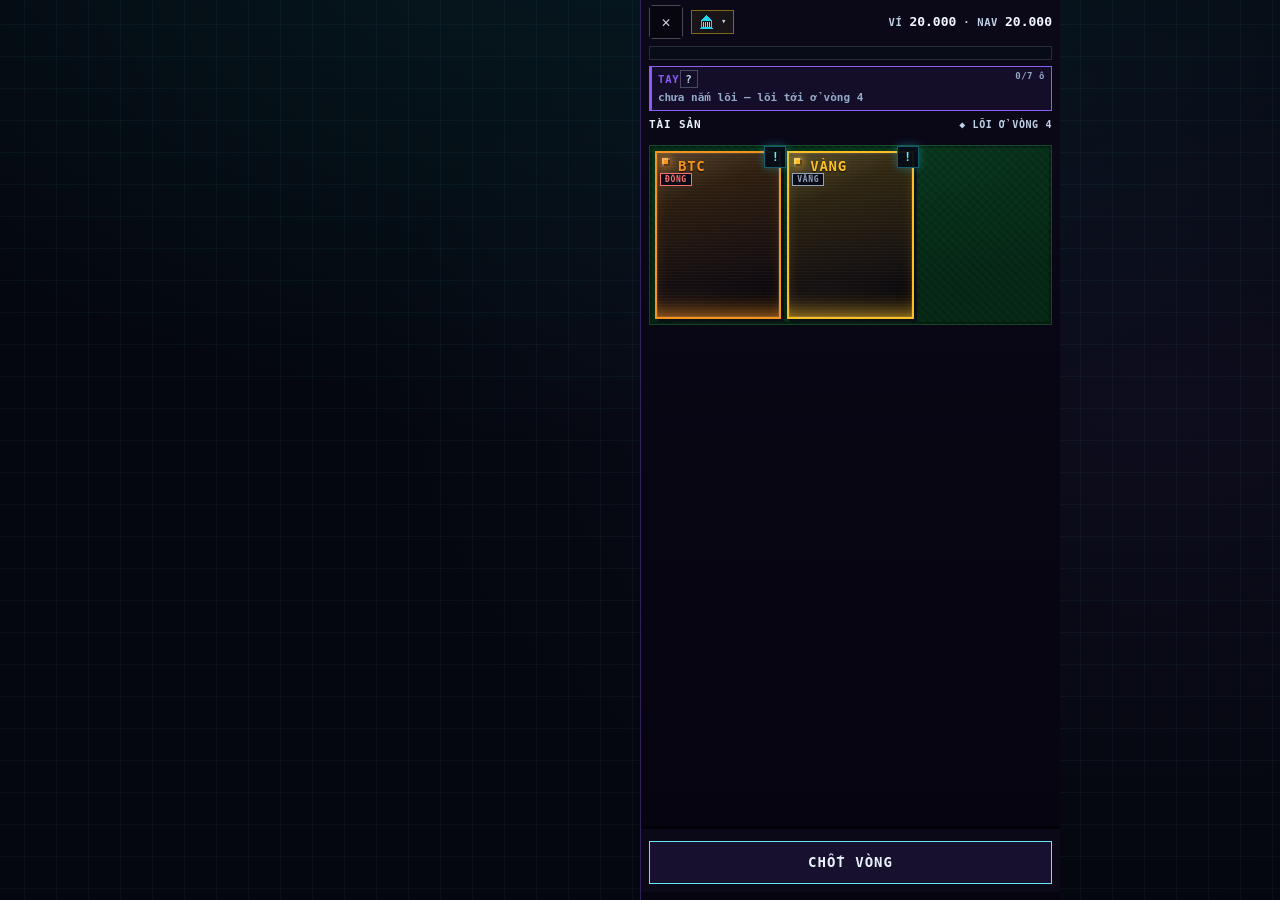
Test: I. thẻ VAI CỦA BẠN › ⭐ THU CÒN MỘT NÚT: tên hiện sẵn, QUYỀN/GIÁ chỉ mở khi CHỦ ĐỘNG chạm
Check: the element with test id "vai-cua-ban" does not show "Đa Dạng Hoá ghim sẵn; thấy DÒNG TIỀN cả bàn"
Check: the element with test id "vai-cua-ban" does not show "Mandate: không mua mã nào quá 40% NAV; không được Bán Khống"
# Mở: đủ chữ server phát, không gõ lại ở client (D61).
What coordinates should you click on to do the following:
click the button "▾"
I would click on:
 (713, 22)
Its box is 691,10 -> 734,34.
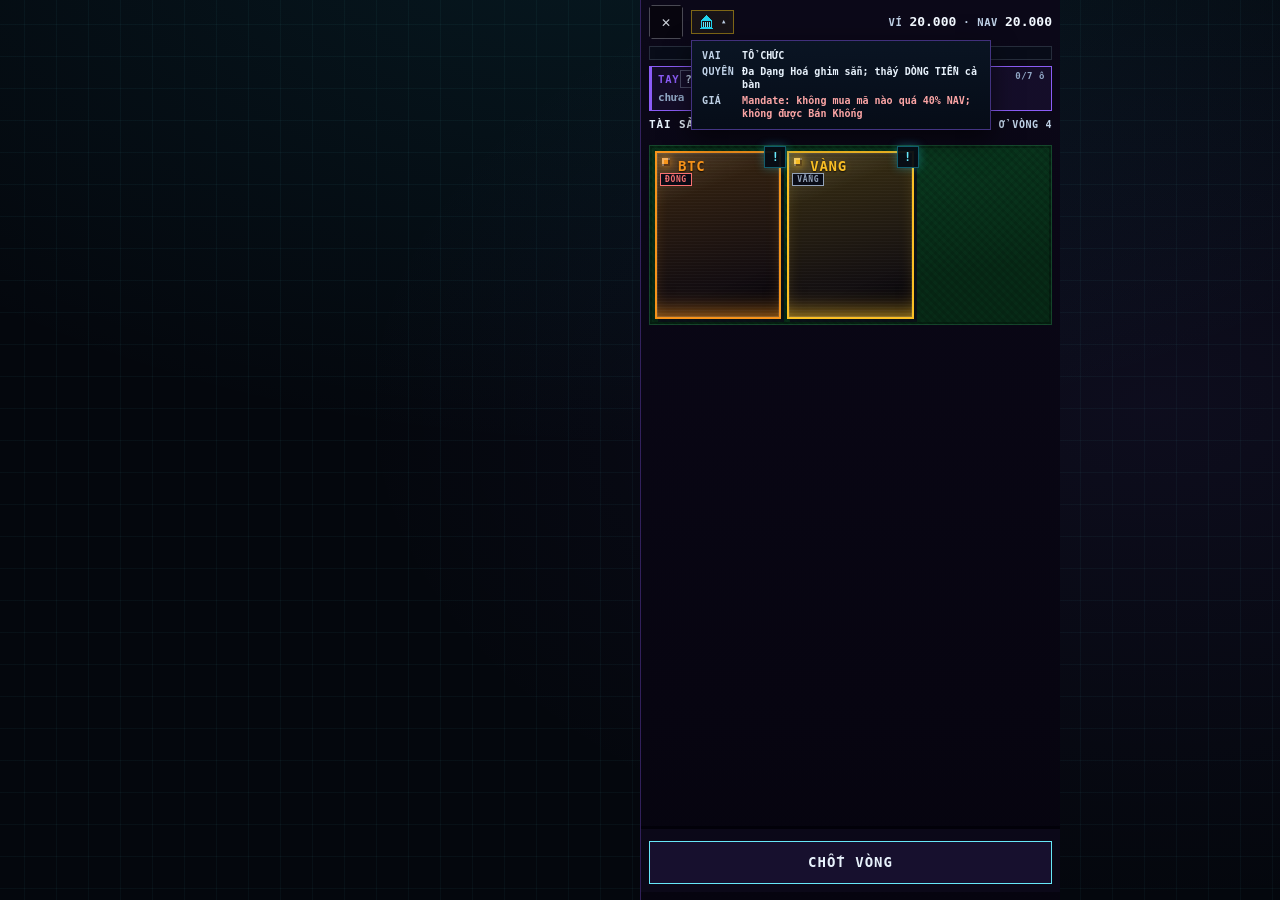
Check: the element with test id "vai-cua-ban" shows "Đa Dạng Hoá ghim sẵn; thấy DÒNG TIỀN cả bàn", box 742,66 -> 977,90
Check: the element with test id "vai-cua-ban" shows "Mandate: không mua mã nào quá 40% NAV; không được Bán Khống", box 742,94 -> 971,119
# Bấm lại thì cụp — nó là chỗ đọc lại một lần, không phải một tuỳ chọn.
What coordinates should you click on to do the following:
click the button "▴"
I would click on:
 (713, 22)
Its box is 691,10 -> 734,34.
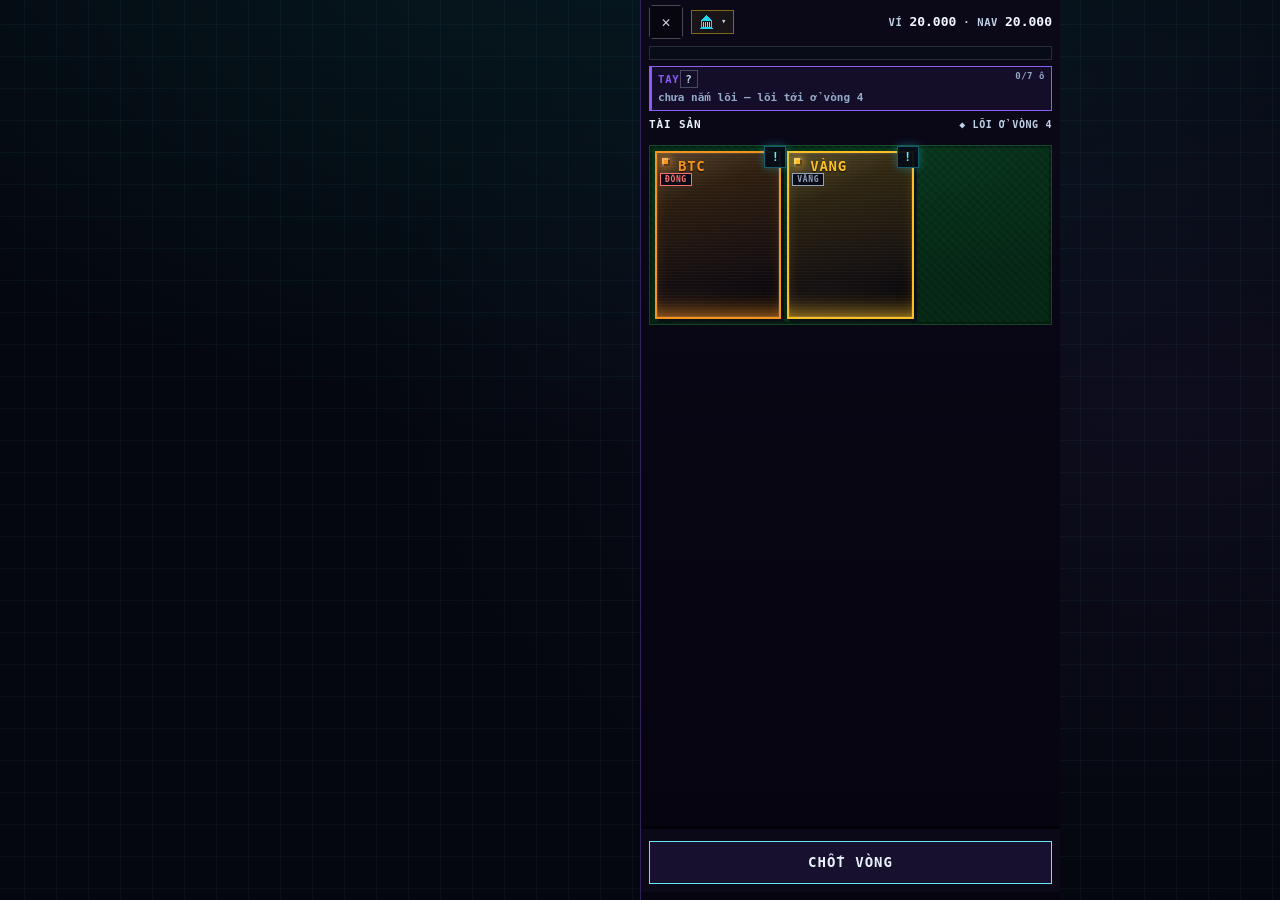
Check: the text with test id "vai-cua-ban" no longer shows "Đa Dạng Hoá ghim sẵn; thấy DÒNG TIỀN cả bàn"
